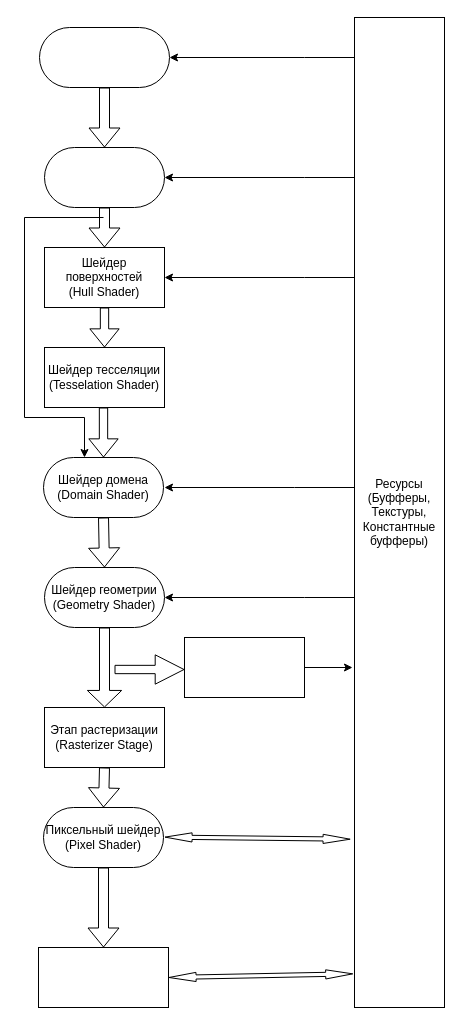
This 462x1025 diagram has some shape labels left out. The centre of each missing label's shape, as x and y in pixels:
"Стадия сборки входных данных (Input Assebler stage)" belongs at (104,57).
"Шейдер вершин (Vertex Shader)" belongs at (104,177).
"Этап выходного слияния (Output Merger Stage)" belongs at (103,977).
"Этап потокового вывода (Stream output Stage)" belongs at (244,667).
